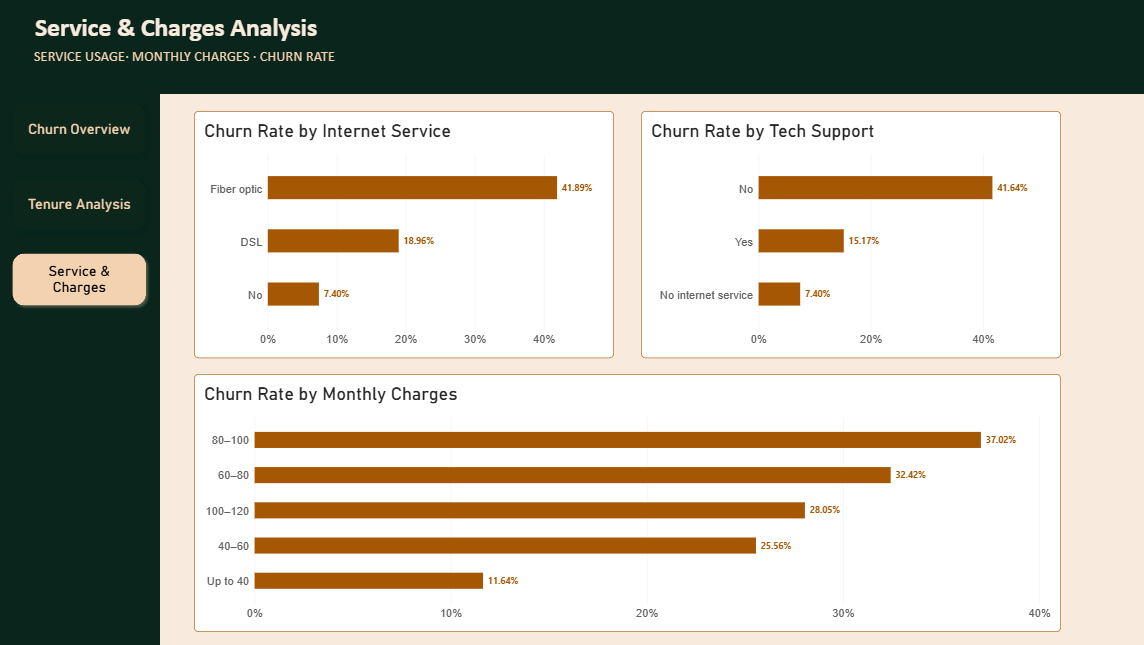

This screenshot's page, from the dashboard's own definition file:
{"tool":"powerbi","page":{"name":"Service & Charges","canvas":[1920,1080],"ordinal":2},"visuals":[{"type":"shape","box":[0,0,1920,156.7],"z":0},{"type":"shape","box":[0,10,271.7,1070],"z":1000},{"type":"textbox","box":[61.7,0,473.3,81.7],"z":2000},{"type":"textbox","box":[61.7,78.3,636.7,51.7],"z":3000},{"type":"clusteredBarChart","fields":{"Category":["Telco-Customer-Churn.TechSupport"],"Y":["Telco-Customer-Churn.Churn Rate"]},"box":[1073.3,185,700,411.7],"z":8001},{"type":"clusteredBarChart","fields":{"Category":["Telco-Customer-Churn.Monthly Charges Group"],"Y":["Telco-Customer-Churn.Churn Rate"]},"box":[328.3,623.3,1445,430],"z":8002},{"type":"clusteredBarChart","fields":{"Category":["Telco-Customer-Churn.InternetService"],"Y":["Telco-Customer-Churn.Churn Rate"]},"box":[328.3,185,700,411.7],"z":8003},{"type":"pageNavigator","box":[16.7,163.3,241.7,355],"z":8004}]}

Visuals, with their boxes in screenshot pixels (x1, y1, x2, y2), scaled from the page's 1920x1080 canvas onto the 1144x645 screenshot:
shape: [0,0,1143,94]
shape: [0,6,162,644]
textbox: [37,0,319,49]
textbox: [37,47,416,78]
clusteredBarChart - Telco-Customer-Churn.TechSupport x Telco-Customer-Churn.Churn Rate: [640,110,1057,356]
clusteredBarChart - Telco-Customer-Churn.Monthly Charges Group x Telco-Customer-Churn.Churn Rate: [196,372,1057,629]
clusteredBarChart - Telco-Customer-Churn.InternetService x Telco-Customer-Churn.Churn Rate: [196,110,613,356]
pageNavigator: [10,98,154,310]
